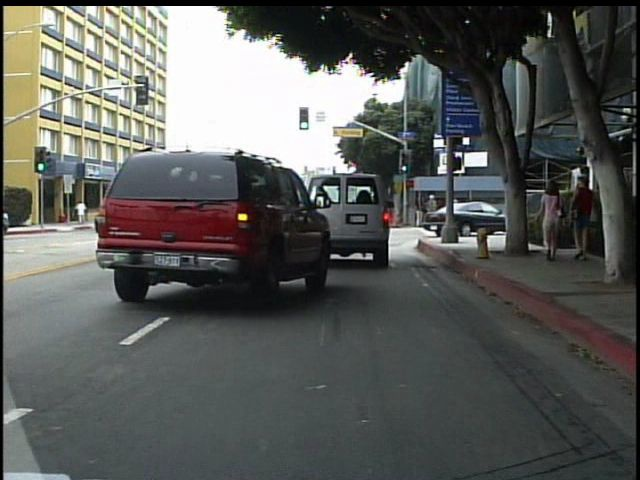person: (569, 173, 601, 265), (536, 173, 567, 264), (424, 190, 439, 227), (74, 197, 90, 227)
